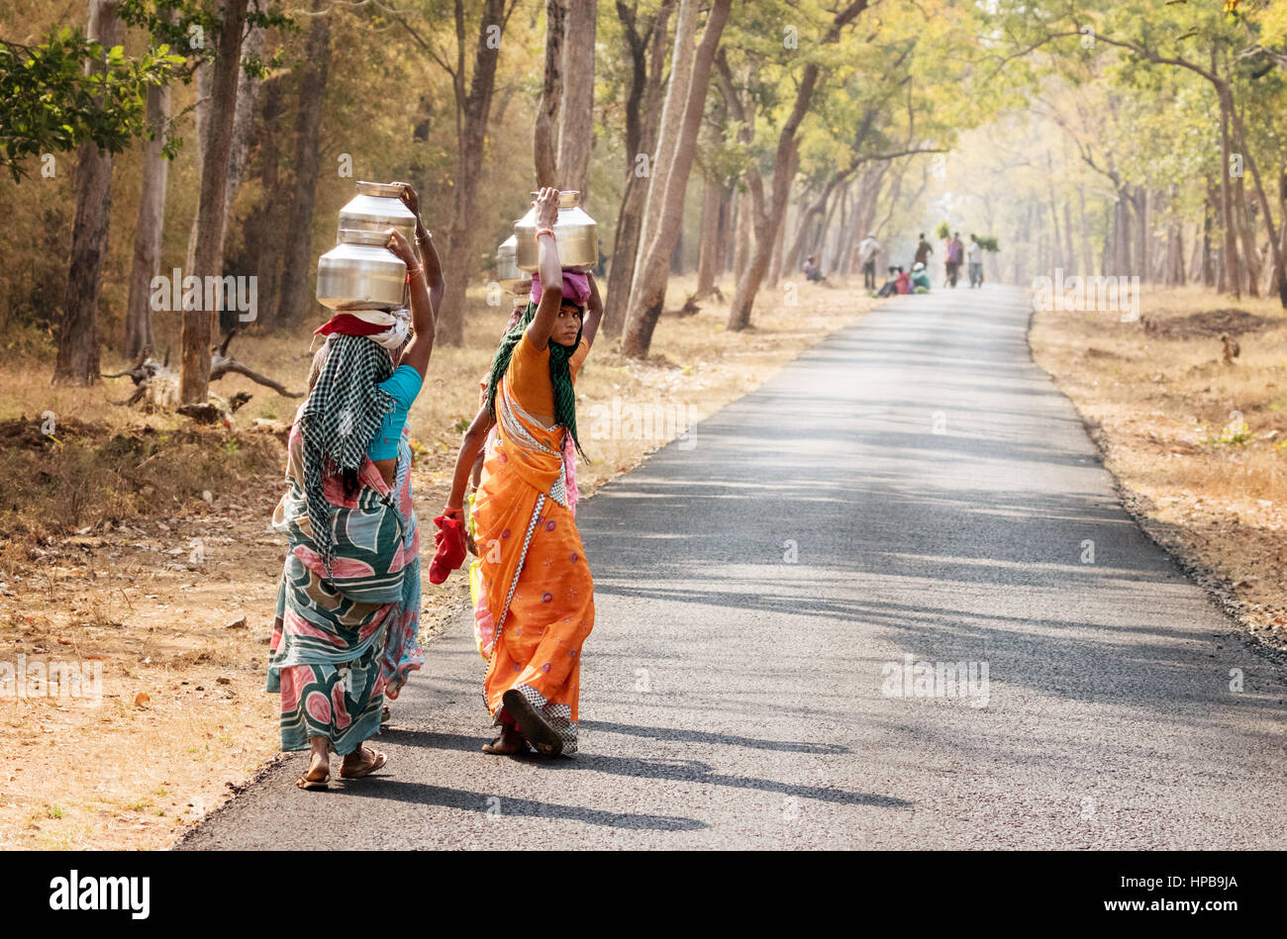Person: (437, 261, 637, 765), (264, 299, 442, 794)
